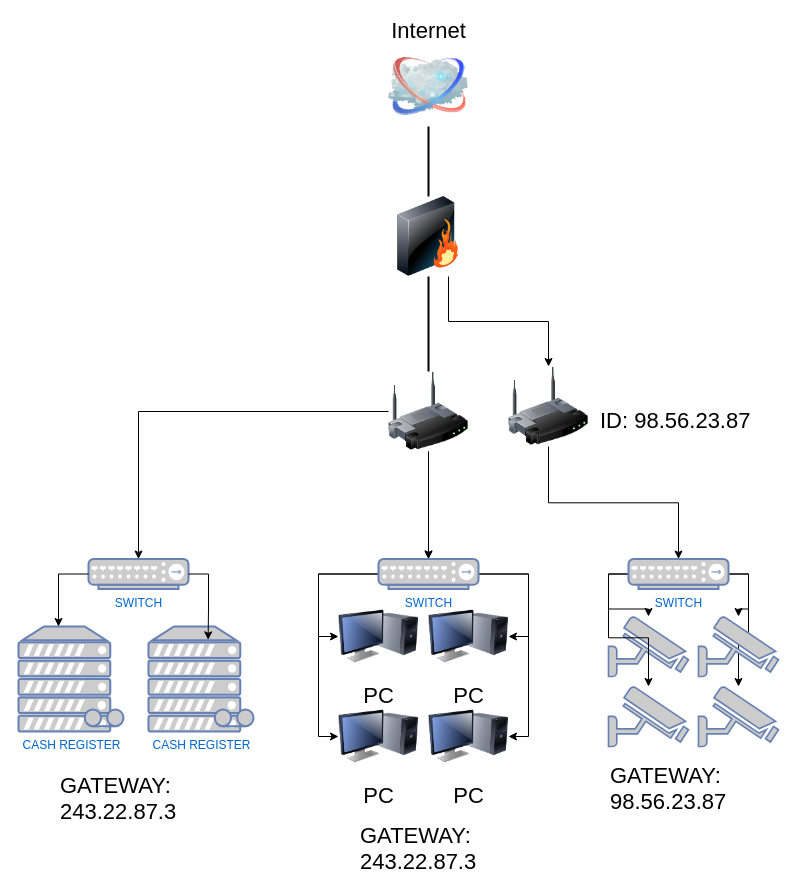
This 805x893 diagram has some shape labels left out. Here are the shapes that lost their labels. From the top down, the box of each, then its label:
(388, 196, 468, 276): Firewall
(388, 371, 468, 451): ID: 243.22.87.3
